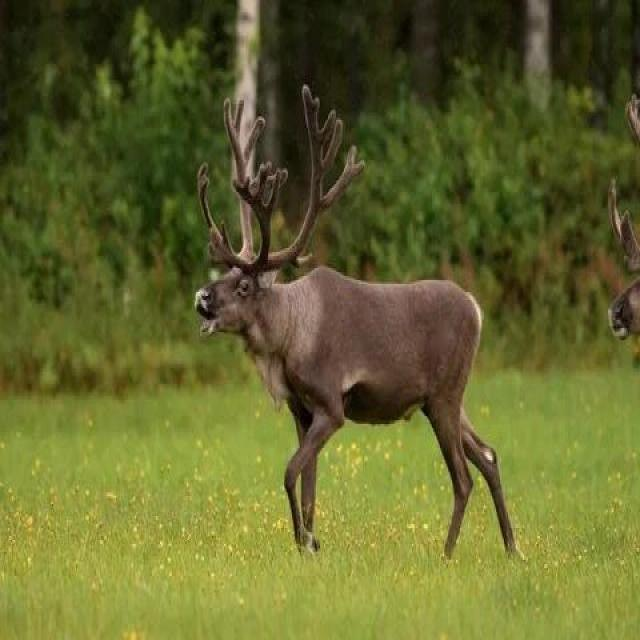deer: (217, 131, 538, 538)
